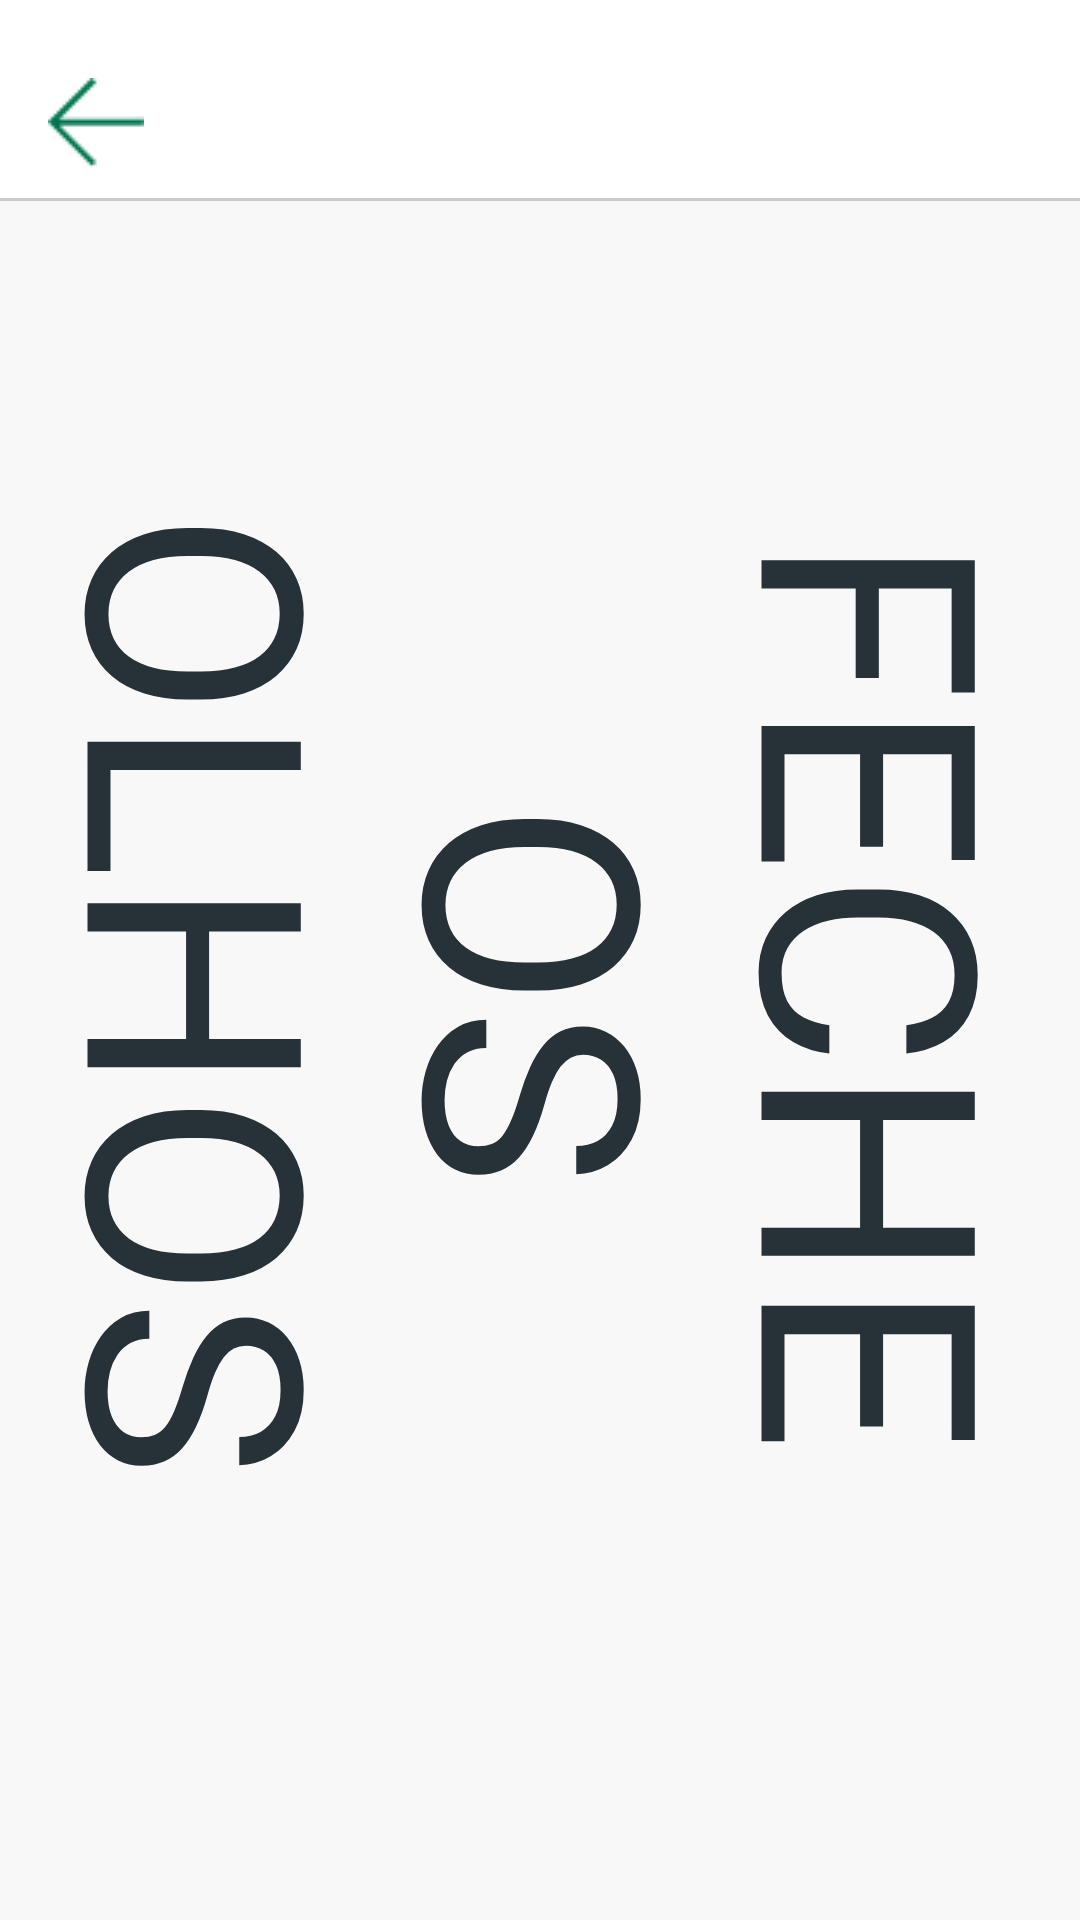

Icon click points for this 1080w x 1920h phone screenshot, format (x=x, y=y):
Voltar: (x=96, y=122)
